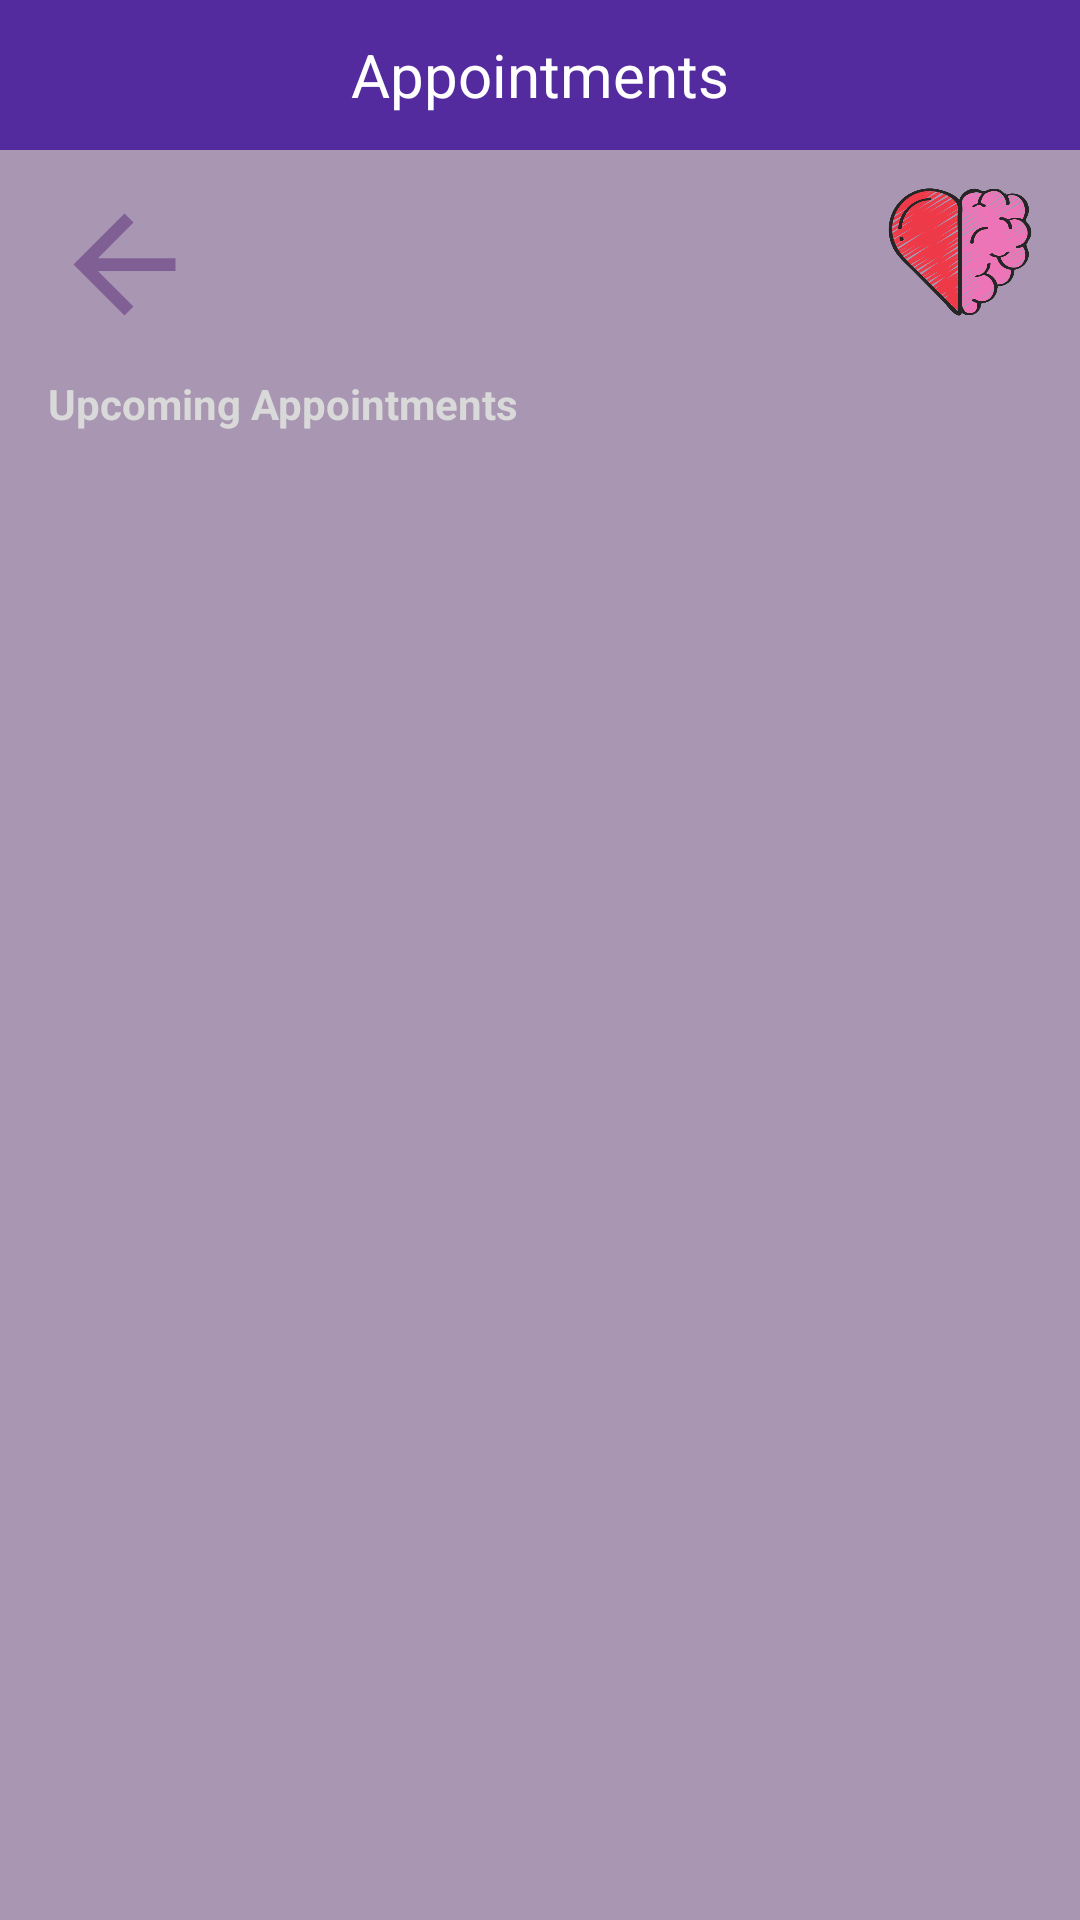

Point at icon controls on the screen. Image size 1080px×1920px, points as [x,y].
Heart Icon: [960,252]
